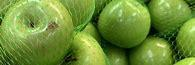apple: (0, 5, 77, 65), (96, 0, 151, 47), (67, 28, 110, 65), (177, 18, 195, 52)
